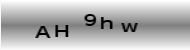9: (82, 13, 97, 27)
A: (33, 25, 51, 40)
H: (53, 23, 69, 39)
h: (100, 16, 113, 30)
w: (119, 21, 138, 33)
